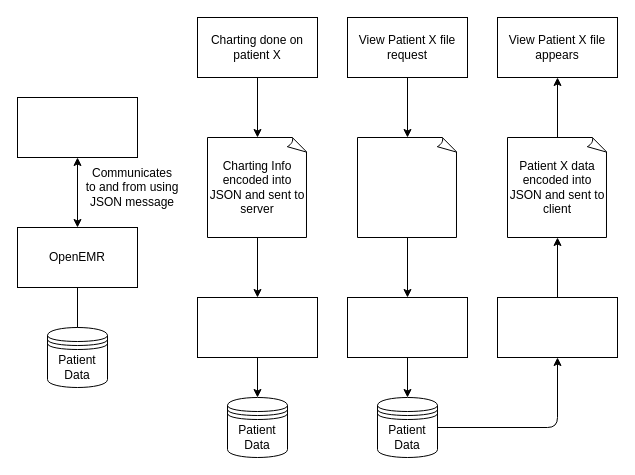
Some shapes in this 635 by 475 pixel diagram are drawn without their labels. Each missing label, with the centre of its shape:
OpenEMR decodes and recieves Patient X data: the point at 407,327
OpenEMR decodes and updates Patient X data: the point at 257,327
OpenEMR recieves Patient X data: the point at 557,327
Request encoded into JSON and sent to server: the point at 407,187
User Interface: the point at 77,127
